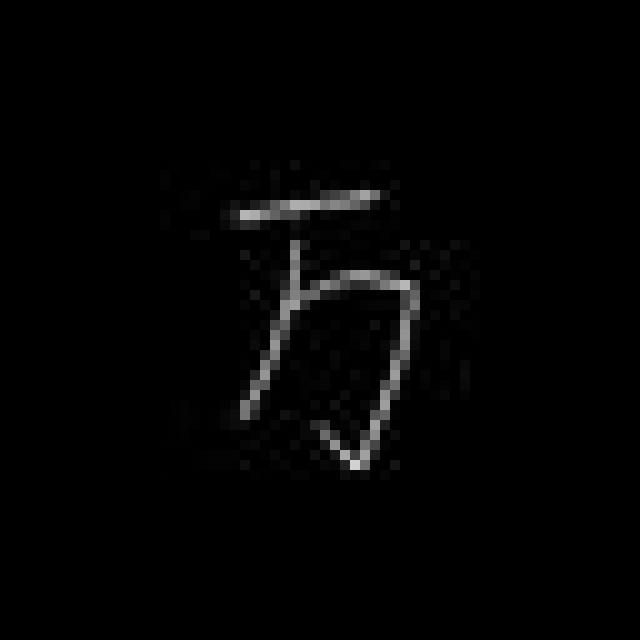10000 -a ten thousand-: (214, 177, 435, 489)
